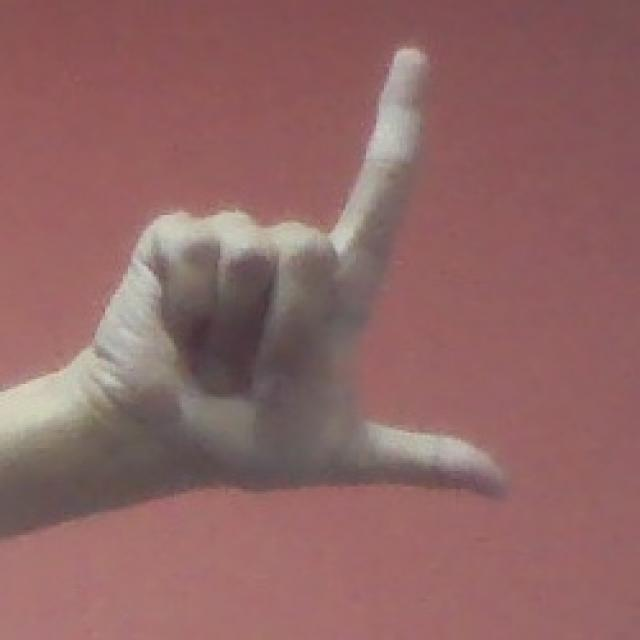Alphabet-L: (108, 34, 531, 517)
